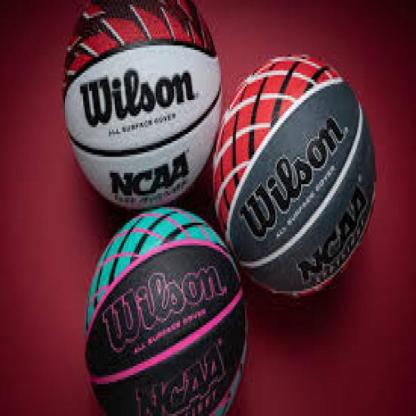basketball: (213, 50, 375, 300), (82, 209, 251, 414), (62, 0, 221, 209)
